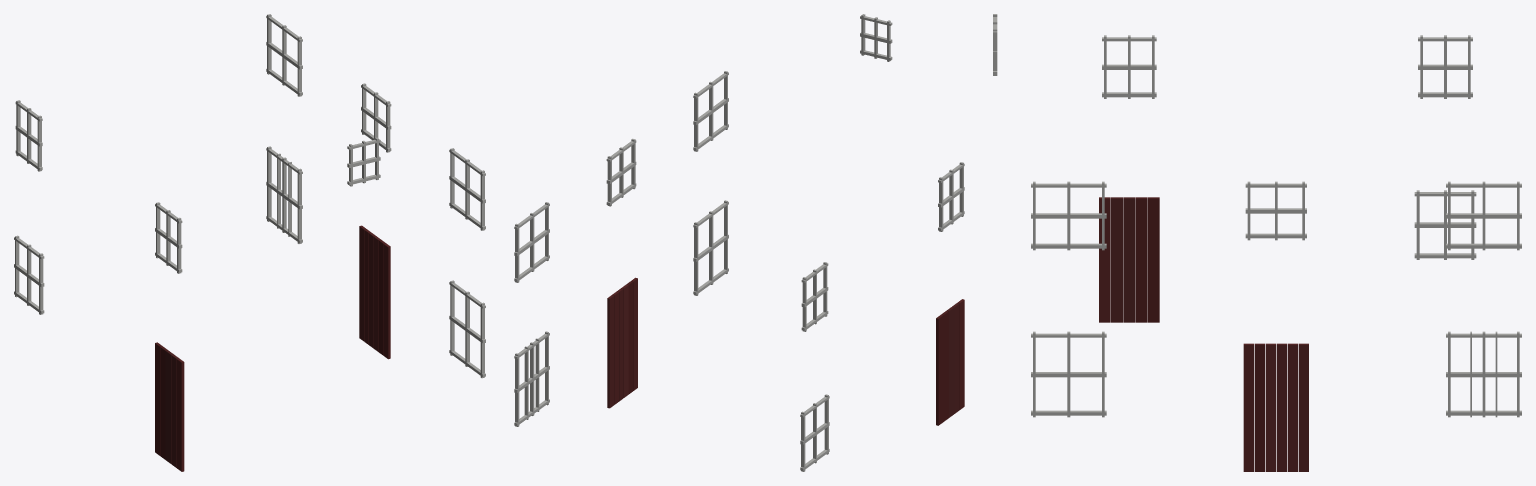
The model's file is SM_Bld_031_Wood.glb.
3 renders of one model, left to right at view 1: azimuth 30°, elevation 25°; view 2: azimuth 150°, elevation 25°; view 3: azimuth 270°, elevation 25°, orthographic. The views are drawn at different scales.
Visible parts, largest first — view 1: SM_Bld_031_Wood; view 2: SM_Bld_031_Wood; view 3: SM_Bld_031_Wood.
Part boxes in pixels (x1=…): SM_Bld_031_Wood: x1=14, y1=14, x2=485, y2=471; SM_Bld_031_Wood: x1=514, y1=14, x2=964, y2=471; SM_Bld_031_Wood: x1=993, y1=14, x2=1521, y2=471.
Bounding box in the file's own units: 5.28 × 6.05 × 7.74.
